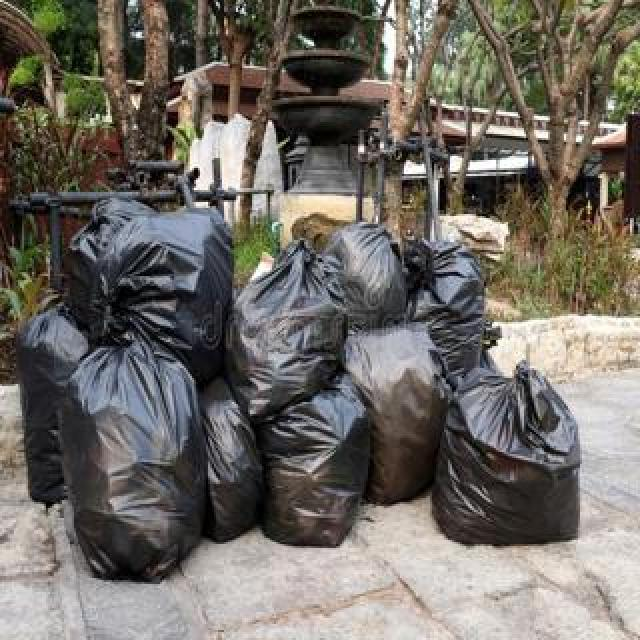Trashbag: (60, 334, 205, 584), (52, 196, 244, 374), (430, 365, 589, 553), (228, 245, 353, 416), (272, 384, 378, 545), (358, 338, 450, 502), (411, 242, 500, 385), (11, 318, 72, 506), (197, 384, 268, 538), (335, 225, 421, 342)
